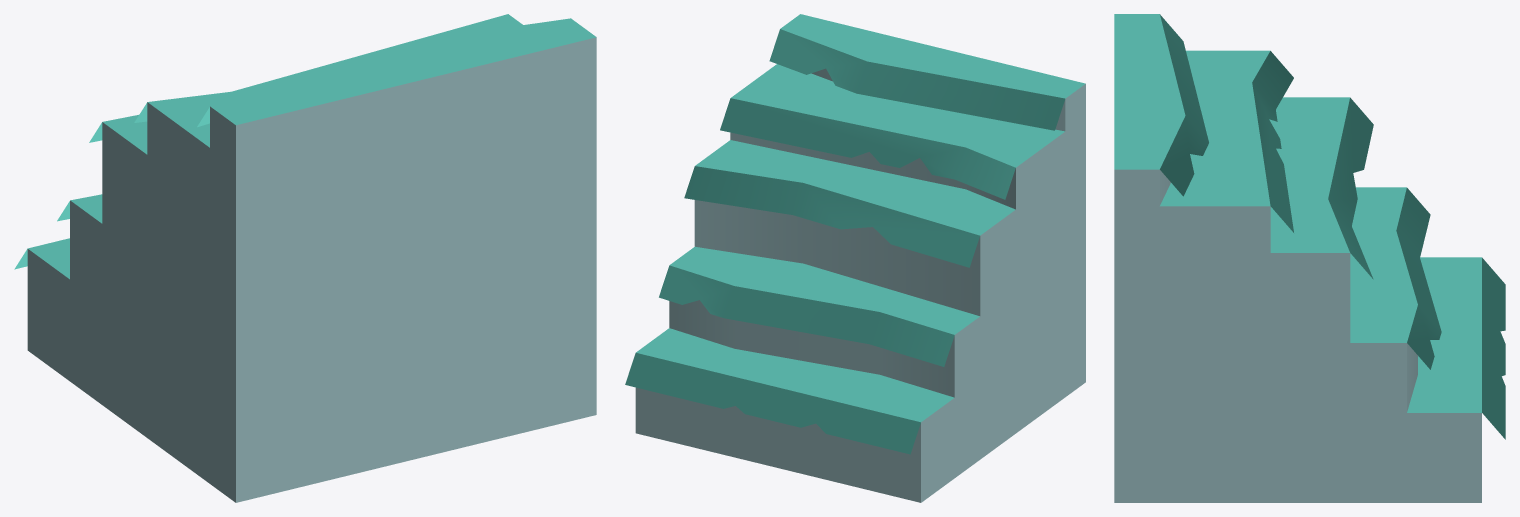
Rendered from cliffGrey_steps.obj.
3 renders of one model, left to right at view 1: azimuth 30°, elevation 25°; view 2: azimuth 150°, elevation 25°; view 3: azimuth 270°, elevation 25°, orthographic. The views are drawn at different scales.
Parts seen in each view (by area): view 1: cliffGrey_steps; view 2: cliffGrey_steps; view 3: cliffGrey_steps.
Part boxes in pixels (<box>): cliffGrey_steps: <box>14,14,596,502</box>; cliffGrey_steps: <box>625,14,1085,502</box>; cliffGrey_steps: <box>1114,14,1505,502</box>.
Bounding box in the file's own units: 10 × 10 × 10.64.
